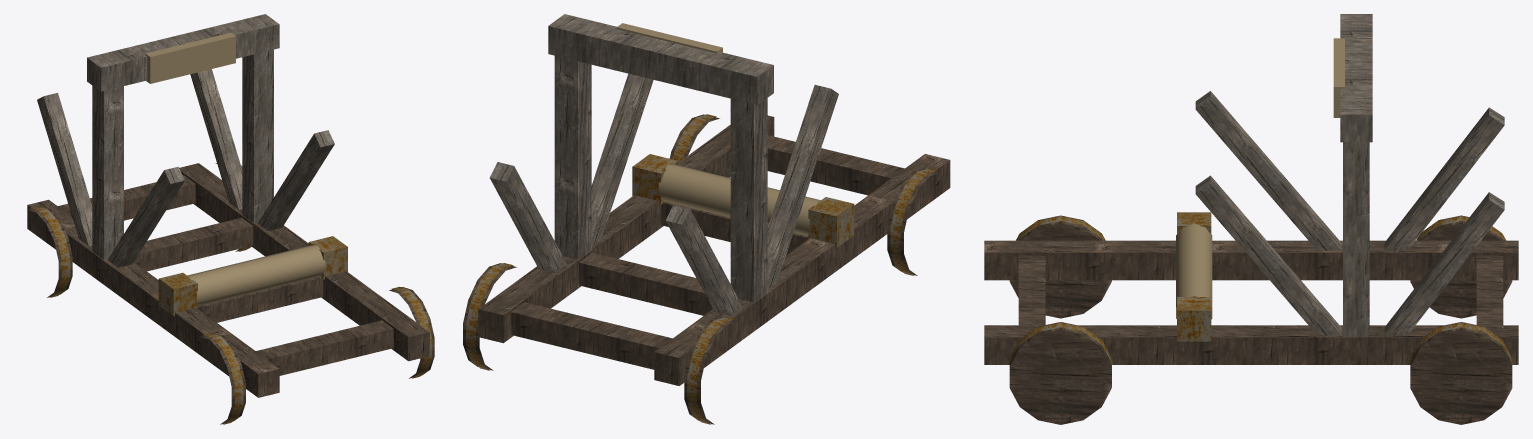
The model's file is Catapult_Frame.gltf.
3 views of the same model, side by side, from view 1: azimuth 30°, elevation 25°; view 2: azimuth 150°, elevation 25°; view 3: azimuth 270°, elevation 25° (orthographic). The views are drawn at different scales.
Parts seen in each view (by area): view 1: Catapult_Frame; view 2: Catapult_Frame; view 3: Catapult_Frame.
Part boxes in pixels (x1,y1,x2,y2): Catapult_Frame: [27, 14, 434, 424]; Catapult_Frame: [463, 14, 950, 424]; Catapult_Frame: [984, 14, 1518, 424].
Bounding box in the file's own units: 2.84 × 3.54 × 5.6.
4 materials, 4 textured.
